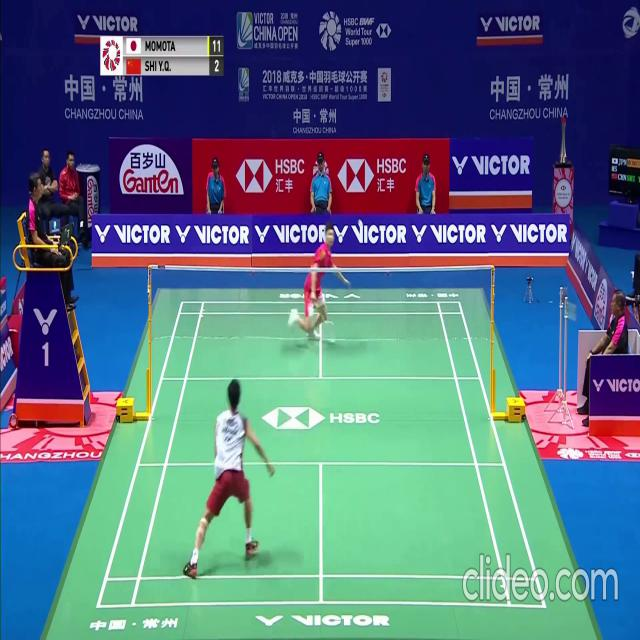Shuttlecock: (358, 220, 363, 228)
